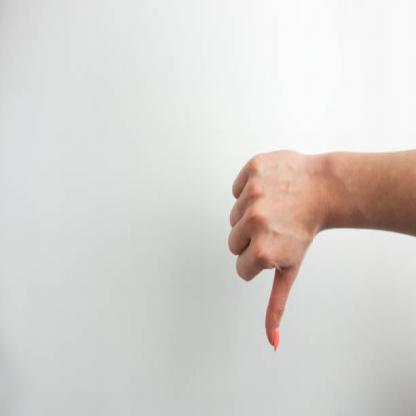thumb_down: (226, 138, 316, 356)
